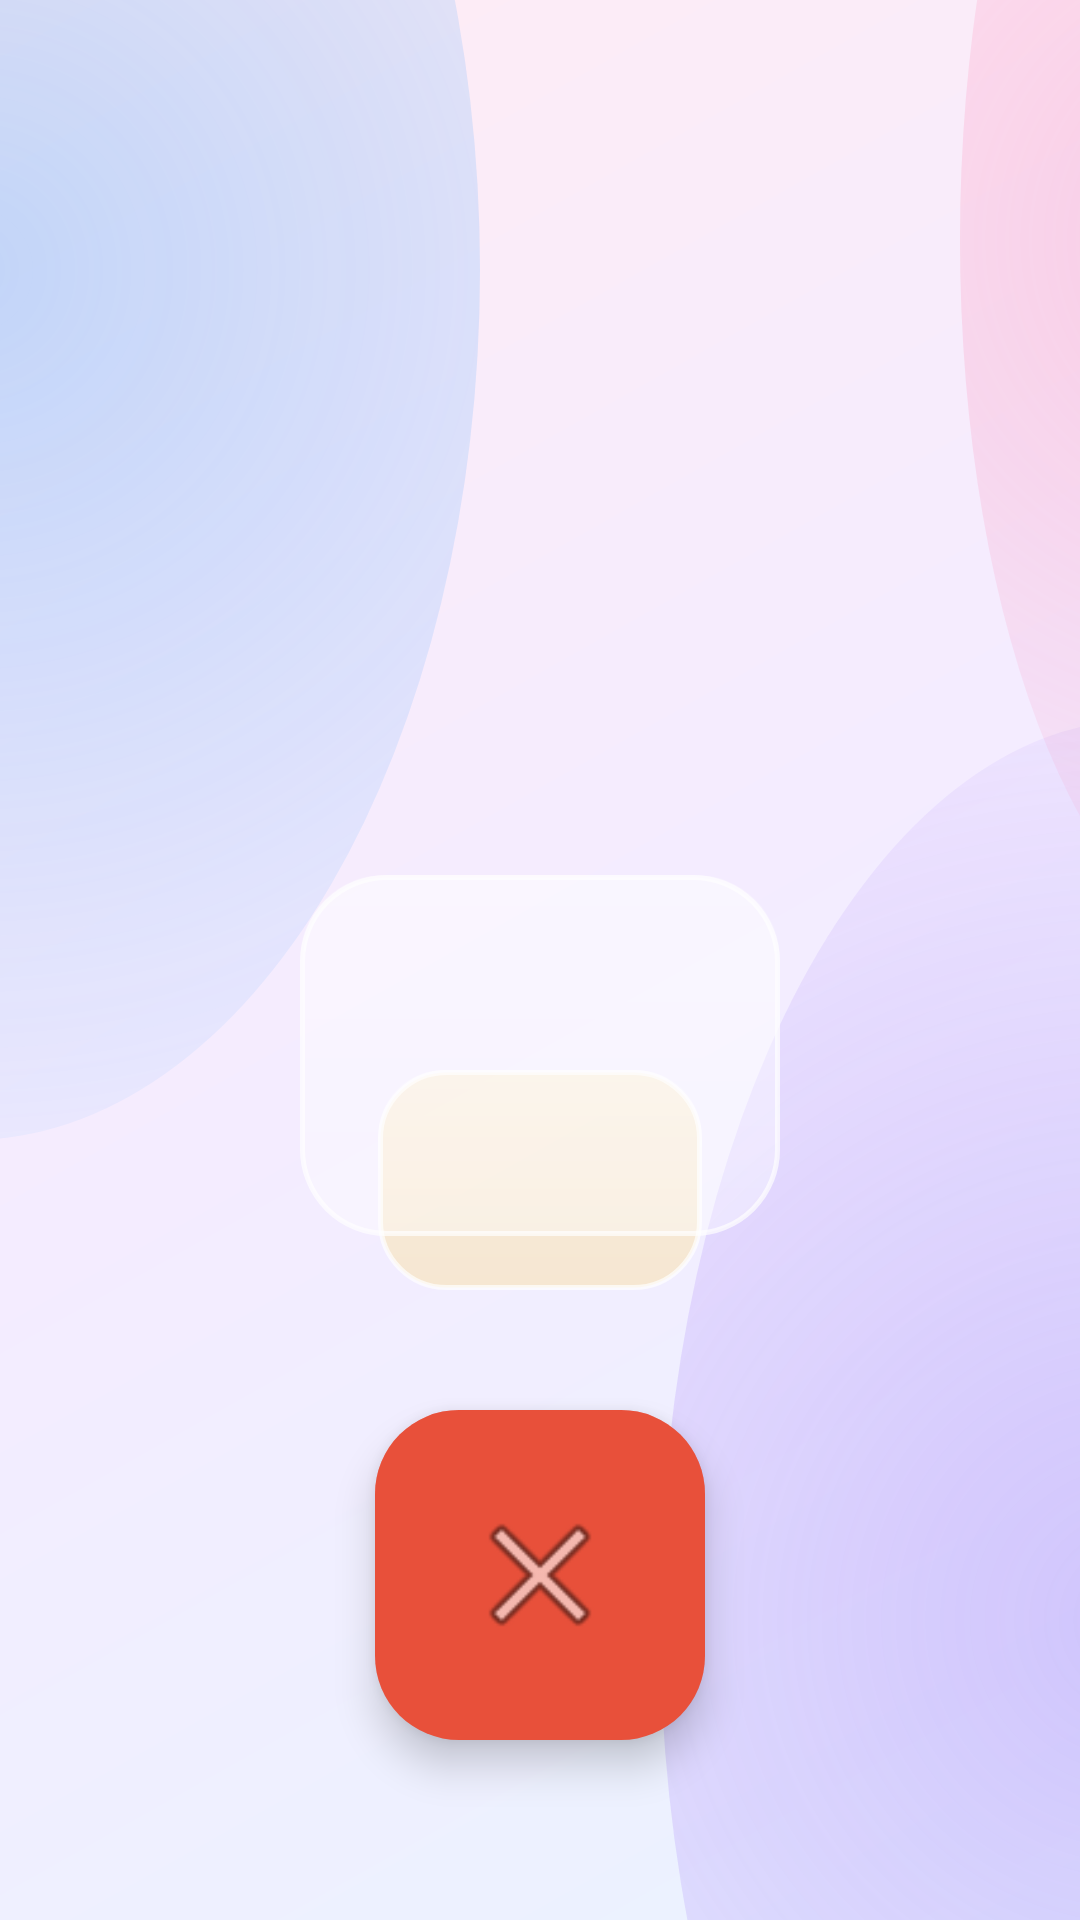

Where to tap for icons on this 1080w x 1920h app screen, as [x,y]:
통화 종료: [540,1575]
